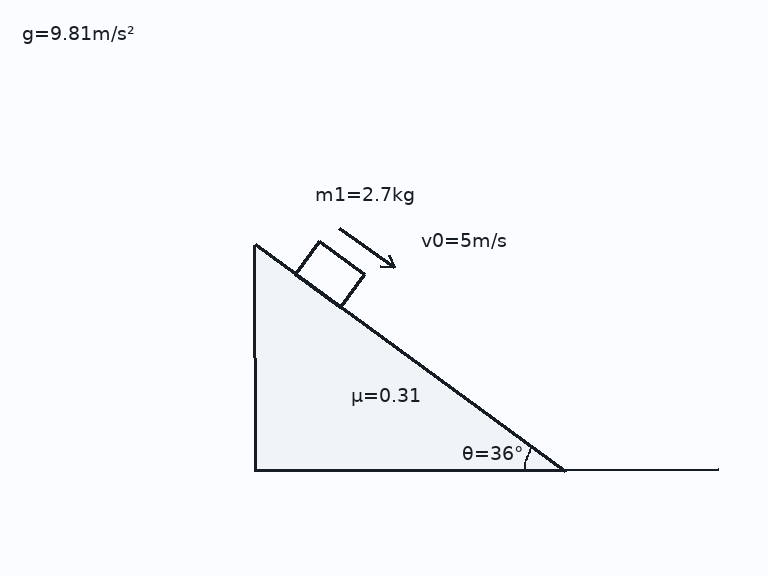block: (293, 239, 366, 309)
ramp: (252, 242, 567, 472)
